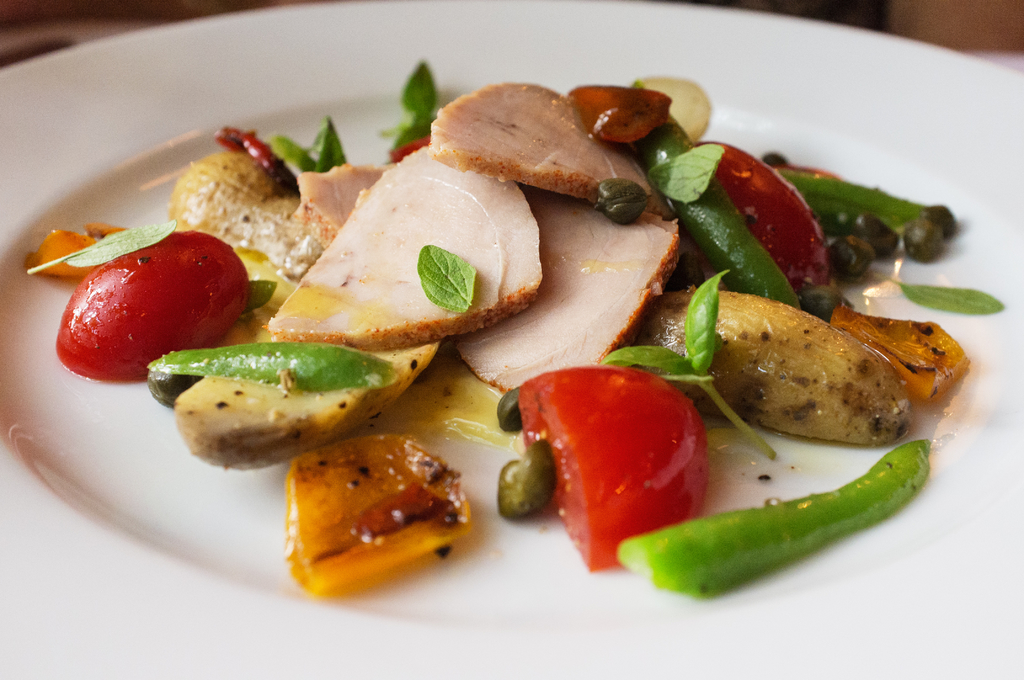salad: (25, 60, 1006, 602)
